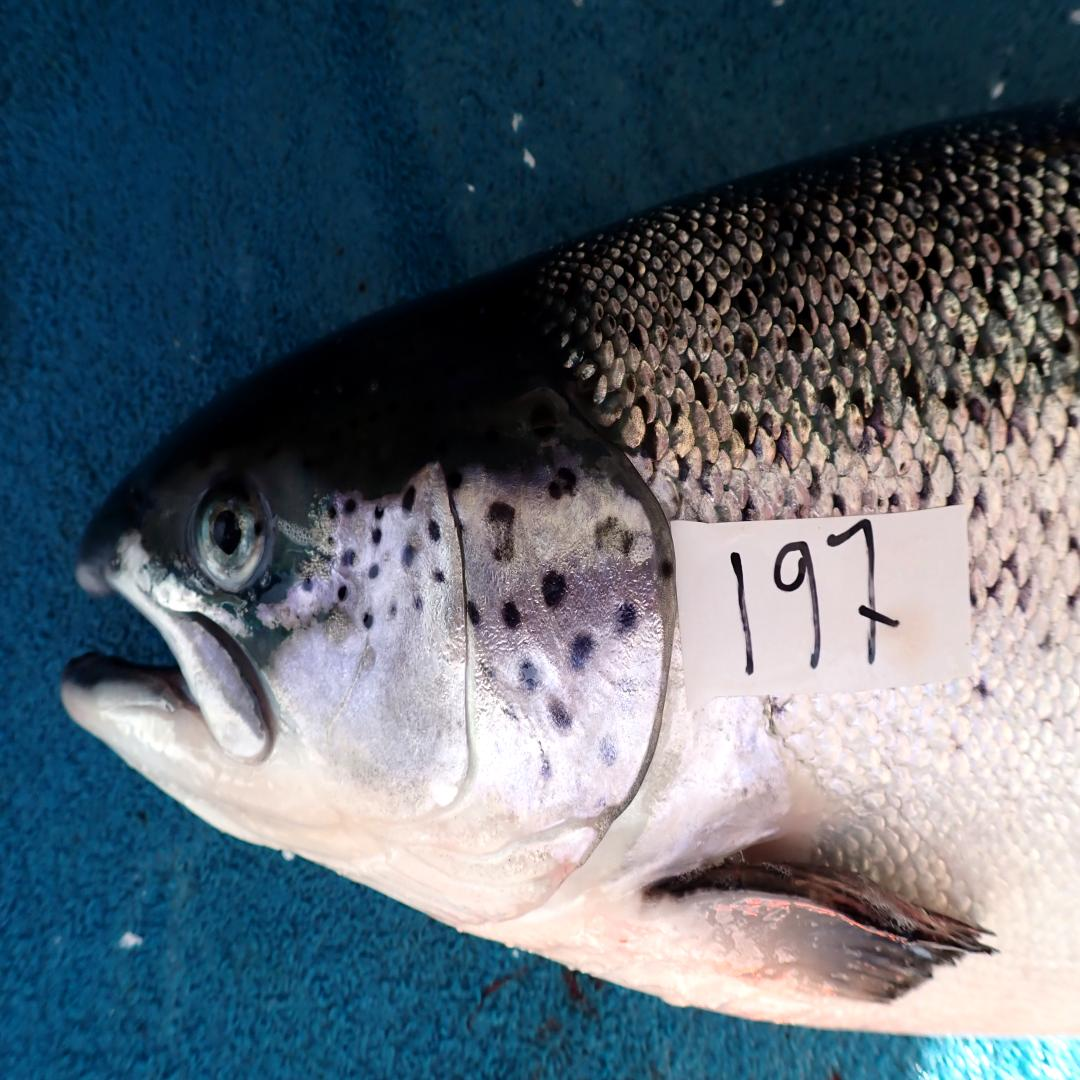roi: (268, 458, 668, 933)
